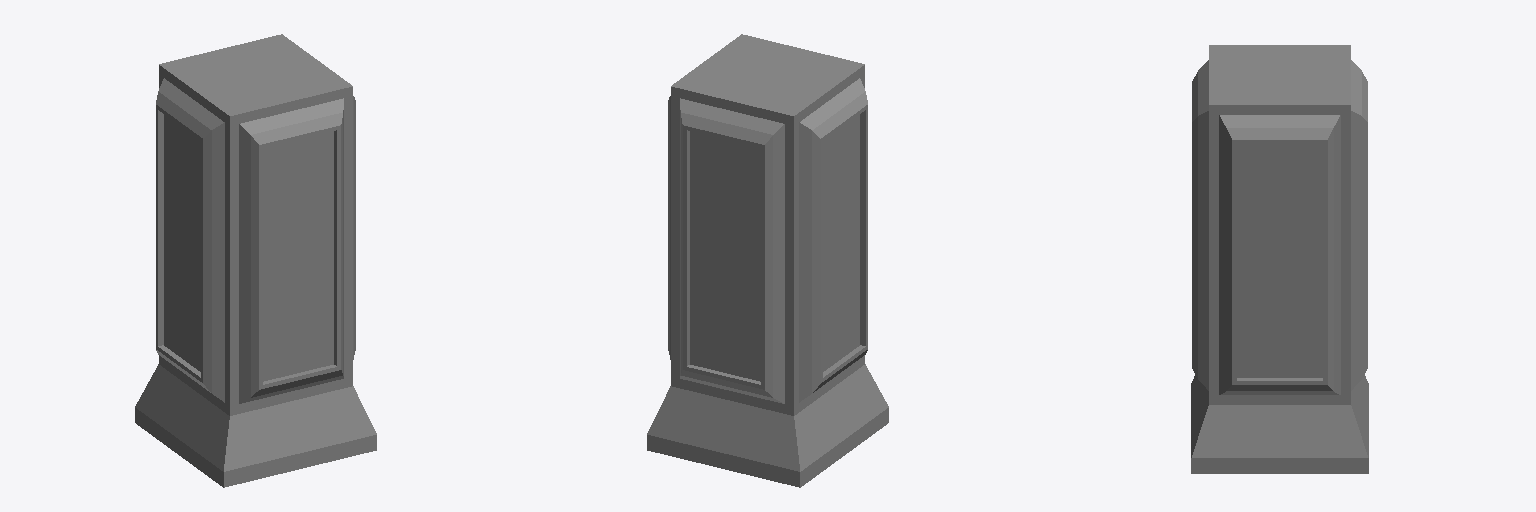
Rendered from HotServer.obj.
The picture shows the model from 3 angles: view 1: azimuth 30°, elevation 25°; view 2: azimuth 150°, elevation 25°; view 3: azimuth 270°, elevation 25°; orthographic projection.
Parts seen in each view (by area): view 1: SM_SuperheatedServerCluster_E; view 2: SM_SuperheatedServerCluster_E; view 3: SM_SuperheatedServerCluster_E.
Boxes of the visible parts, <box> form: SM_SuperheatedServerCluster_E: <box>135,34,376,487</box>; SM_SuperheatedServerCluster_E: <box>647,34,888,487</box>; SM_SuperheatedServerCluster_E: <box>1191,45,1368,473</box>.
Bounding box in the file's own units: 39.37 × 88.58 × 39.37.